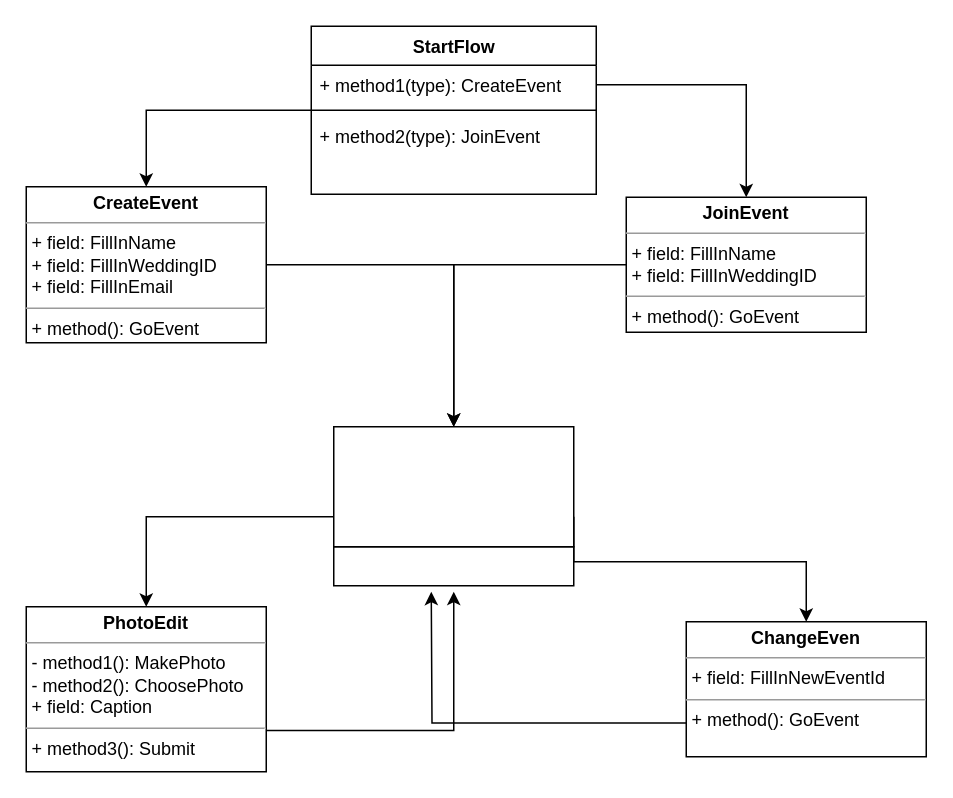
This 953x798 diagram has some shape labels left out. The shapes that lost their labels are listed below. From the top down, each one's centre as x and y in pixels, then its label:
the point at 453,486: EventWall + field: TableViewImages + method1(): LoadPhoto
the point at 453,565: + method2(): ChangEvent
